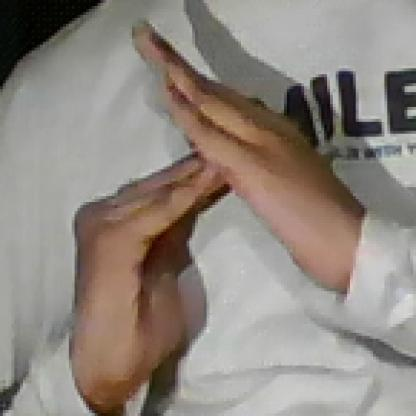Z: (66, 19, 342, 364)
